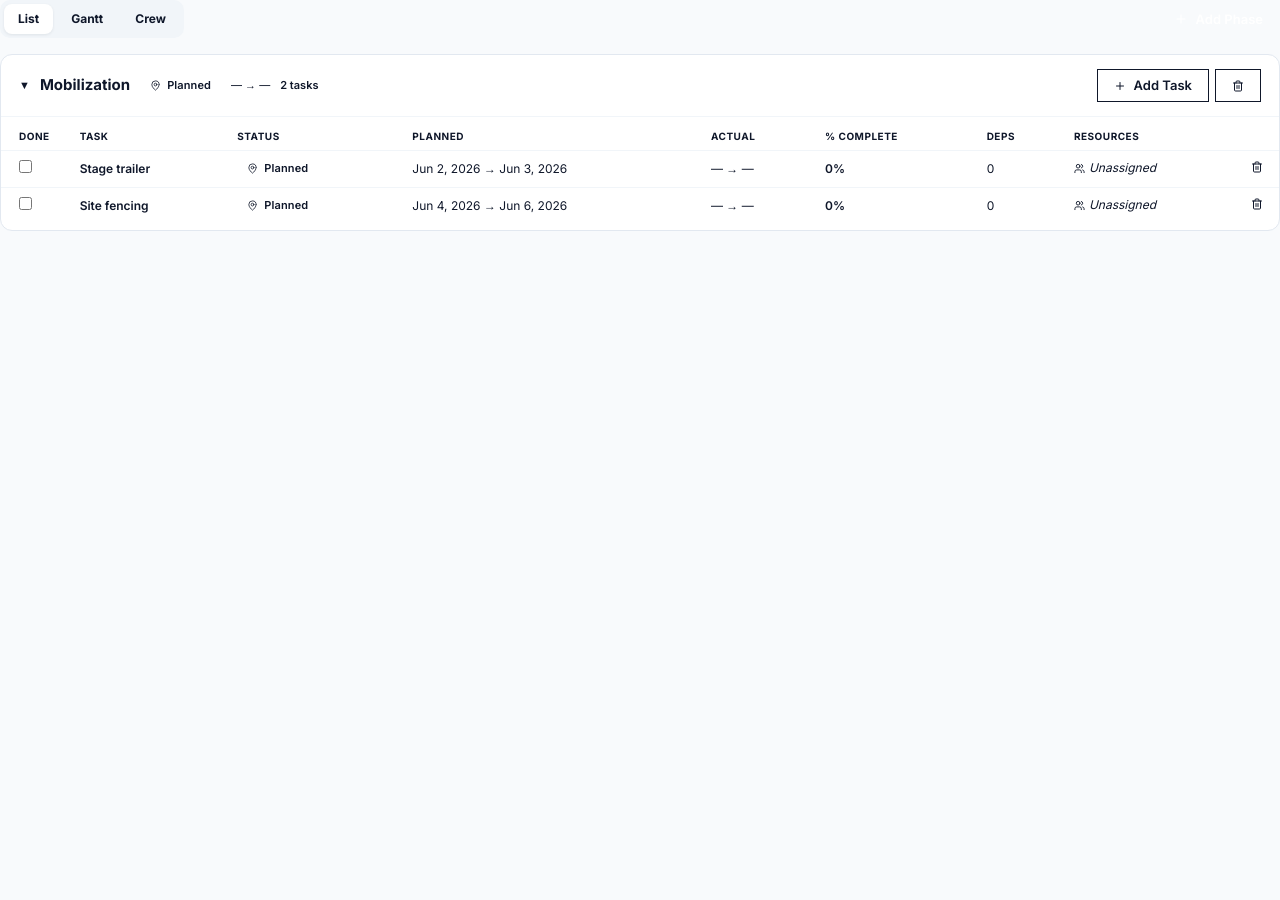
Test: Add Task flow › opens the task modal scoped to the right phase
Click the button "Add Task" at [1153, 86], box [1097,69,1209,102]
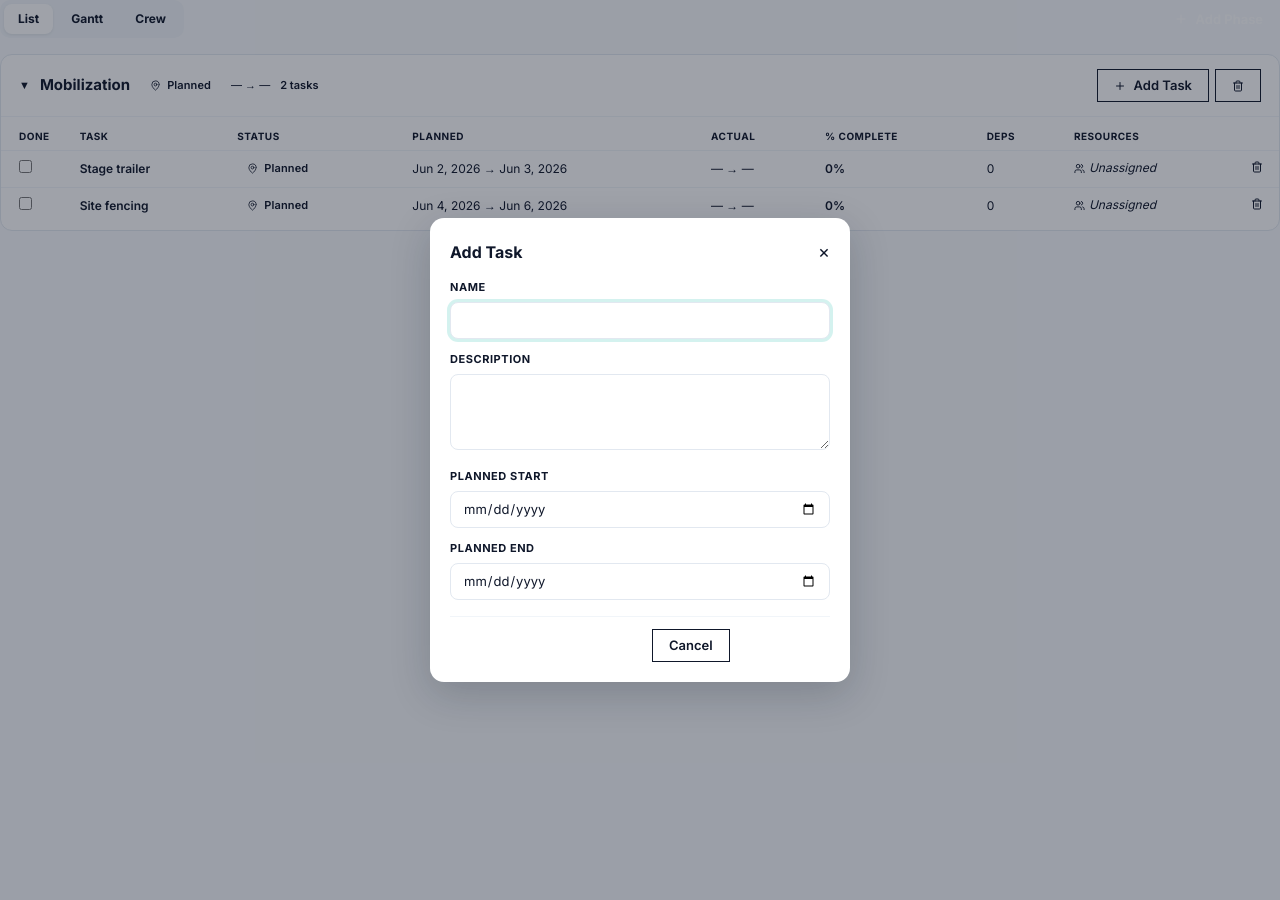
Expected: the element that starts with "Add Task" is shown
Expected: the field is shown, [450,302,830,339]
